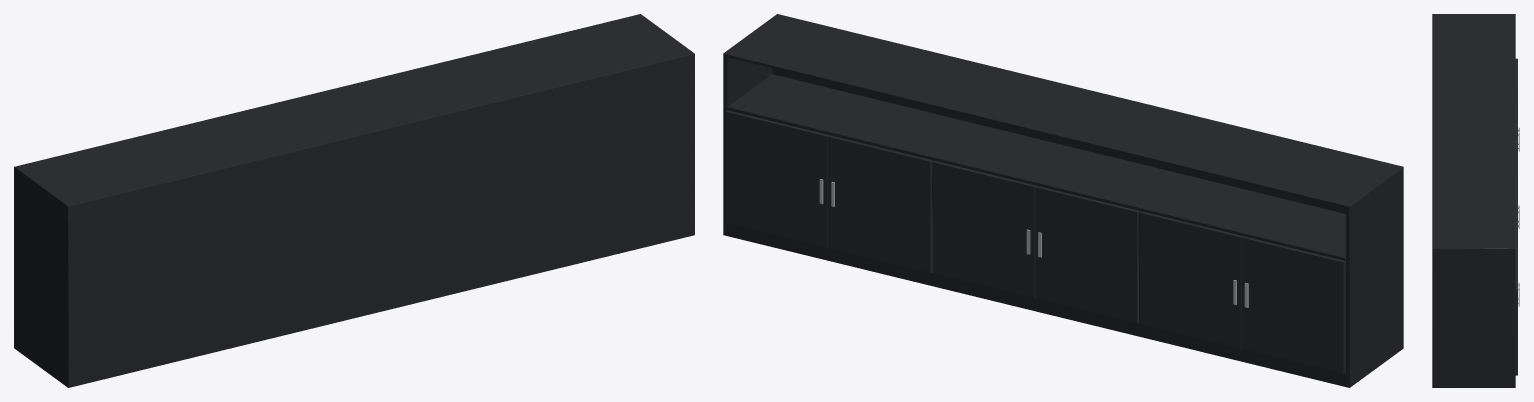
File: Cabinet.fbx
3 renders of one model, left to right at view 1: azimuth 30°, elevation 25°; view 2: azimuth 150°, elevation 25°; view 3: azimuth 270°, elevation 25°, orthographic. The views are drawn at different scales.
Visible parts, largest first — view 1: _MeshCabinet; view 2: _MeshCabinet; view 3: _MeshCabinet.
Part boxes in pixels (left/top/right/bottom): _MeshCabinet: left=14, top=14, right=694, bottom=387; _MeshCabinet: left=723, top=14, right=1403, bottom=387; _MeshCabinet: left=1432, top=14, right=1519, bottom=387.
Bounding box in the file's own units: 300 × 83.2 × 47.17.
Materials: 1 (1 with a texture image).
